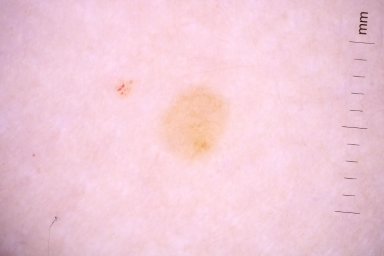nevus: (155, 86, 230, 164)
